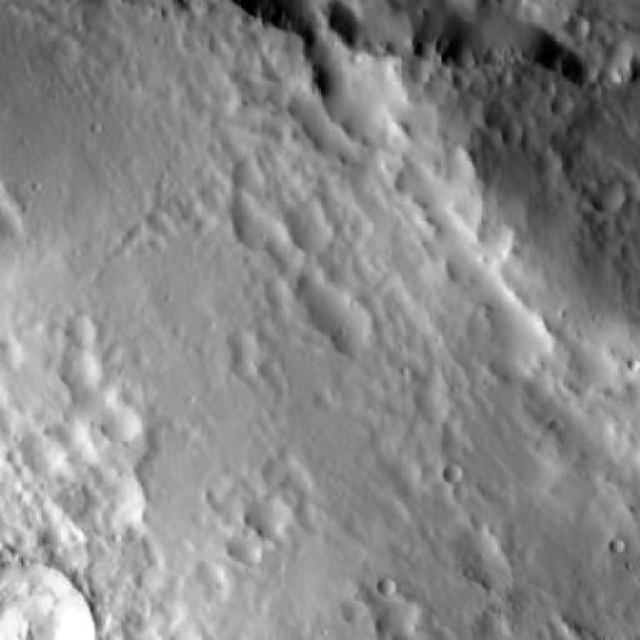crater: (0, 555, 100, 640), (61, 342, 108, 390), (288, 200, 334, 246), (251, 494, 295, 538), (334, 311, 377, 354), (234, 158, 272, 196), (384, 603, 422, 640), (66, 310, 100, 344), (232, 528, 266, 562), (330, 268, 362, 301), (598, 182, 630, 213), (232, 326, 263, 354), (1, 339, 27, 363), (201, 558, 225, 582), (572, 17, 594, 38), (210, 582, 230, 602), (448, 466, 467, 485), (357, 605, 375, 623), (609, 542, 626, 558)
